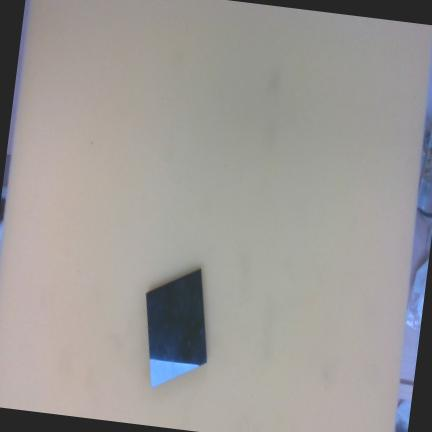tile: (143, 266, 209, 389)
